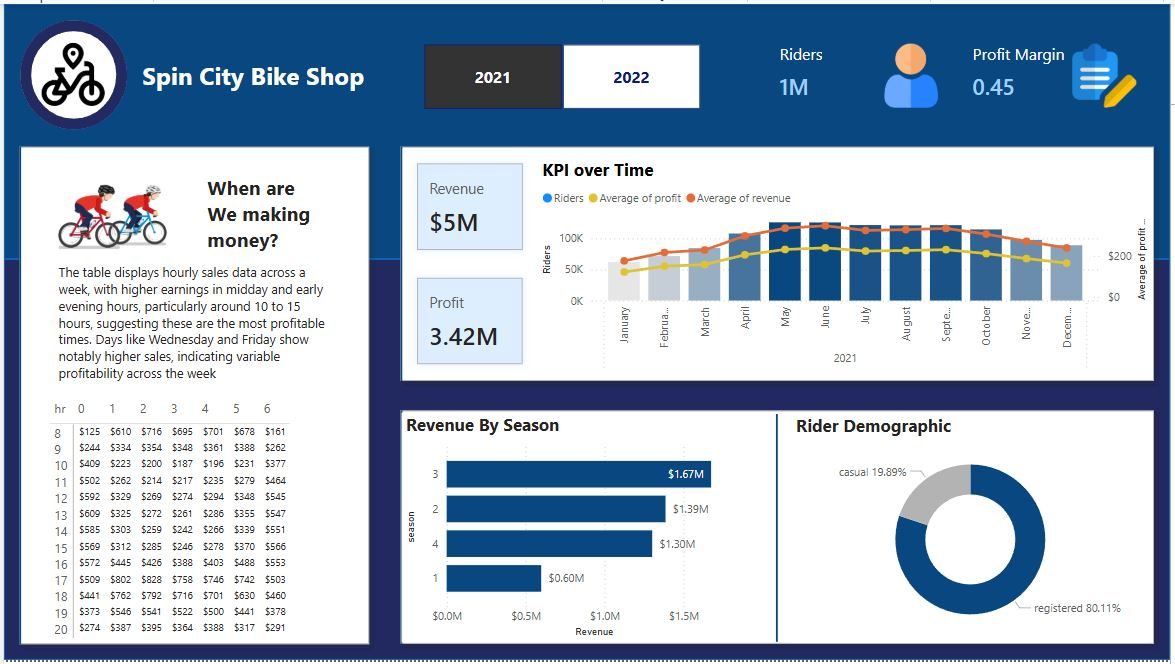

What the dashboard file says about the page in this screenshot:
{"tool":"powerbi","page":{"name":"Page 1","canvas":[1280,720],"ordinal":0},"visuals":[{"type":"shape","box":[0,280,1280,440],"z":0},{"type":"shape","box":[0,0,1280,280],"z":1000},{"type":"cardVisual","fields":{"Data":["Sum(Query1.revenue)"]},"box":[418.6,140,861.4,291.4],"z":2000},{"type":"cardVisual","fields":{"Data":["Sum(Query1.revenue)"]},"box":[0,140,418.8,580],"z":3000},{"type":"cardVisual","fields":{"Data":["Sum(Query1.revenue)"]},"box":[418.6,430,861.4,290],"z":4000},{"type":"cardVisual","fields":{"Data":["Sum(Query1.revenue)"]},"box":[28.7,158.7,186,121.3],"z":5000},{"type":"pivotTable","fields":{"Values":["Avg(Query1.revenue)"],"Columns":["Query1.weekday"],"Rows":["Query1.hr"]},"box":[45.4,430,336.9,271.5],"z":6000},{"type":"textbox","box":[217.7,180.9,135.3,96],"z":7000},{"type":"textbox","box":[55.6,280,315.6,150],"z":8000},{"type":"lineClusteredColumnComboChart","title":"KPI over Time","fields":{"Category":["Query1.dteday.Variation.Date Hierarchy.Year","Query1.dteday.Variation.Date Hierarchy.Month","Query1.dteday.Variation.Date Hierarchy.Day"],"Y":["Sum(Query1.riders)"],"Y2":["Avg(Query1.profit)","Avg(Query1.revenue)"]},"box":[586,169,675,242],"z":9000},{"type":"clusteredBarChart","title":"Revenue By Season","fields":{"Category":["Query1.season"],"Y":["Sum(Query1.revenue)"]},"box":[437,449,396,252],"z":10000},{"type":"donutChart","title":"Rider Demographic","fields":{"Category":["Query1.rider_type"],"Y":["Sum(Query1.riders)"]},"box":[864,450,393,251],"z":11000},{"type":"shape","box":[833,450,31,250],"z":12000},{"type":"cardVisual","title":"KPI over Time","fields":{"Data":["Sum(Query1.revenue)","Sum(Query1.profit)"]},"box":[437.7,159.2,148.5,253.1],"z":13000},{"type":"cardVisual","fields":{"Data":["Sum(Query1.riders)","Query1.Profit margin"]},"box":[833.8,17.5,427.5,122.5],"z":14000},{"type":"shape","box":[17.7,17.9,117.3,120],"z":15000},{"type":"image","box":[34.6,36.2,83.3,83.3],"z":16000},{"type":"textbox","box":[147.5,55,271.2,50],"z":17000},{"type":"slicer","fields":{"Values":["Query1.Year"]},"box":[437.5,40,350,80],"z":18000}]}

Visuals, with their boxes in screenshot pixels (x1, y1, x2, y2), scaled from the page's 1280x720 canvas onto the 1175x664 screenshot:
shape: left=0, top=258, right=1174, bottom=663
shape: left=0, top=0, right=1174, bottom=258
cardVisual - Sum(Query1.revenue): left=384, top=129, right=1174, bottom=398
cardVisual - Sum(Query1.revenue): left=0, top=129, right=384, bottom=663
cardVisual - Sum(Query1.revenue): left=384, top=397, right=1174, bottom=663
cardVisual - Sum(Query1.revenue): left=26, top=146, right=197, bottom=258
pivotTable - Avg(Query1.revenue) x Query1.weekday: left=42, top=397, right=351, bottom=647
textbox: left=200, top=167, right=324, bottom=255
textbox: left=51, top=258, right=341, bottom=397
"KPI over Time" lineClusteredColumnComboChart: left=538, top=156, right=1158, bottom=379
"Revenue By Season" clusteredBarChart: left=401, top=414, right=765, bottom=646
"Rider Demographic" donutChart: left=793, top=415, right=1154, bottom=646
shape: left=765, top=415, right=793, bottom=646
"KPI over Time" cardVisual: left=402, top=147, right=538, bottom=380
cardVisual - Sum(Query1.riders) x Query1.Profit margin: left=765, top=16, right=1158, bottom=129
shape: left=16, top=17, right=124, bottom=127
image: left=32, top=33, right=108, bottom=110
textbox: left=135, top=51, right=384, bottom=97
slicer - Query1.Year: left=402, top=37, right=723, bottom=111
